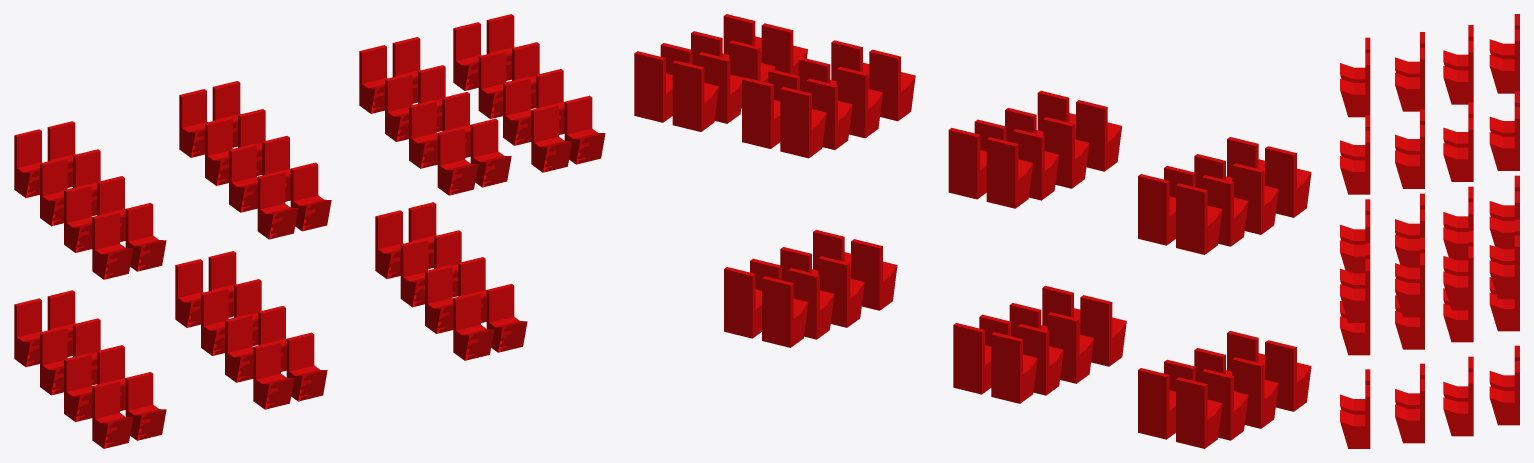
File: chairs.obj
3 renders of one model, left to right at view 1: azimuth 30°, elevation 25°; view 2: azimuth 150°, elevation 25°; view 3: azimuth 270°, elevation 25°, orthographic. The views are drawn at different scales.
Visible parts, largest first — view 1: Cube.121; view 2: Cube.121; view 3: Cube.121.
Boxes of the visible parts, box(x1,y1,x2,y2) form: Cube.121: box(14, 14, 605, 448); Cube.121: box(634, 14, 1311, 448); Cube.121: box(1340, 14, 1519, 448).
Size of the model in its own units: 30.81 by 14.66 by 10.01.
